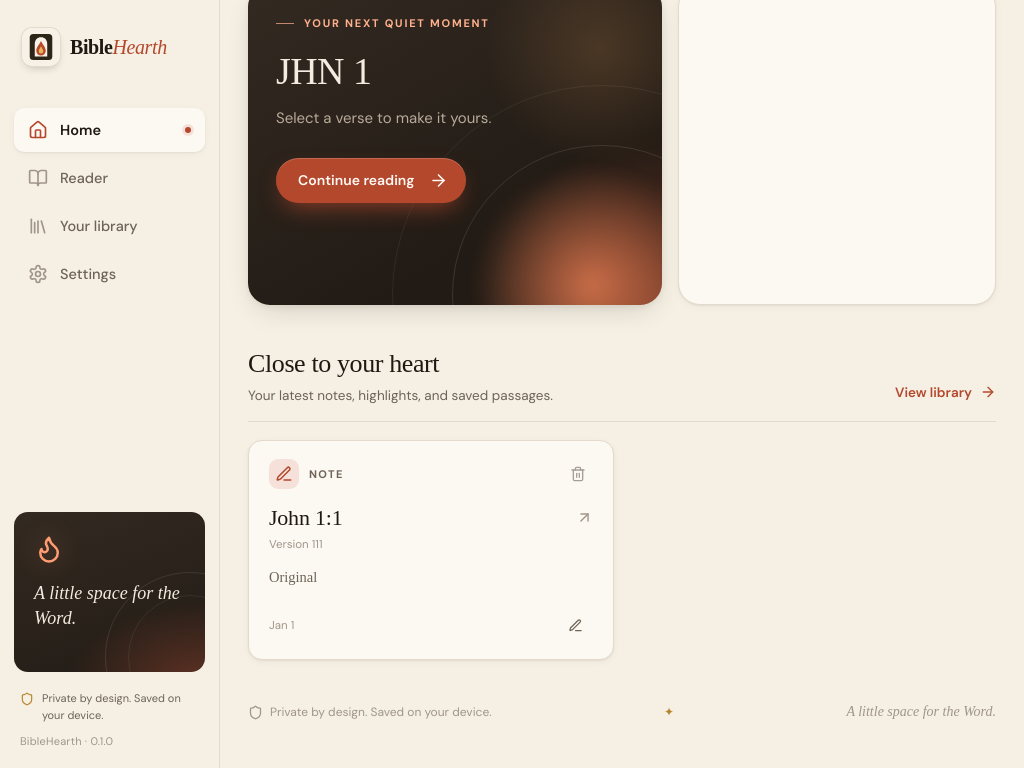
Scenario: note persistence › keeps unsaved note open on failure and retries the same text
The width and height of the screenshot is (1024, 768).
(page scrolled)
Click the button "Original".
click(293, 577)  # box [269, 566, 593, 589]
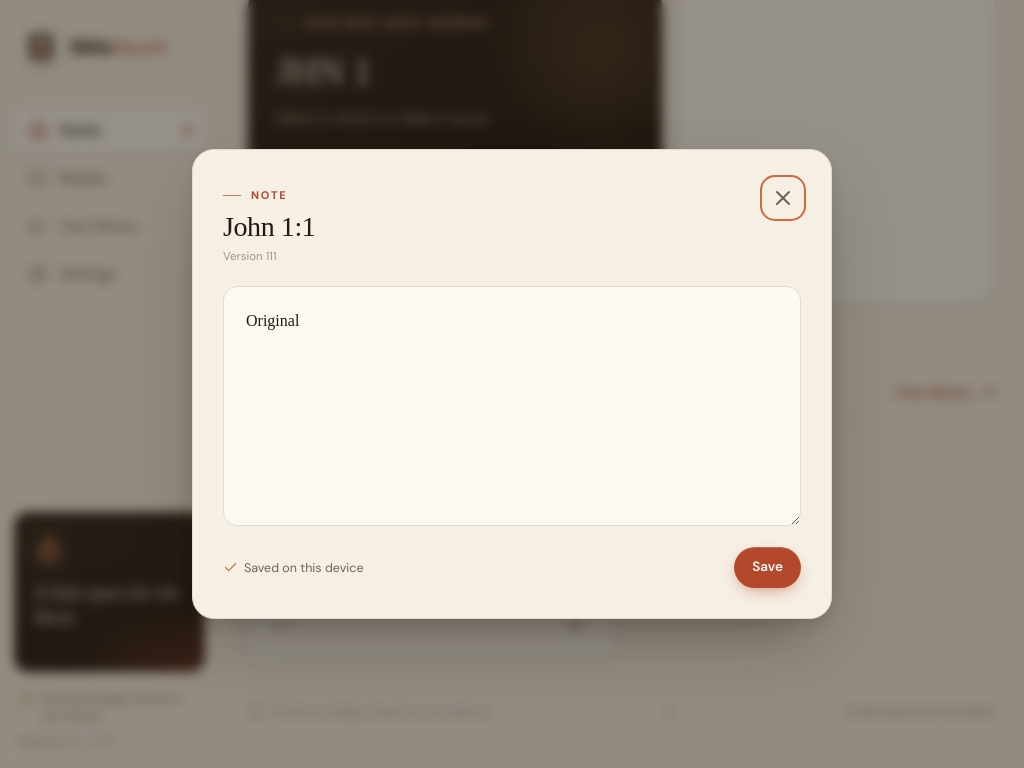
Replace the text in the text box with "Do not lose" at [512, 406], box [223, 286, 801, 526]
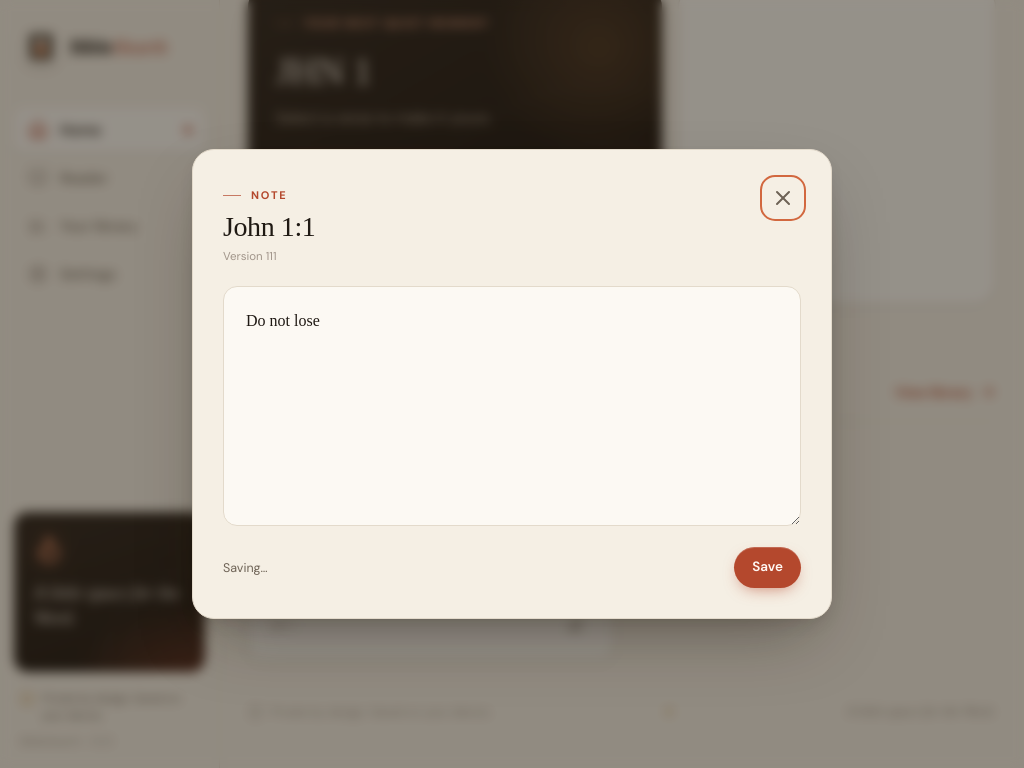
Click the button named "Close".
click(783, 198)  # box [765, 180, 801, 216]
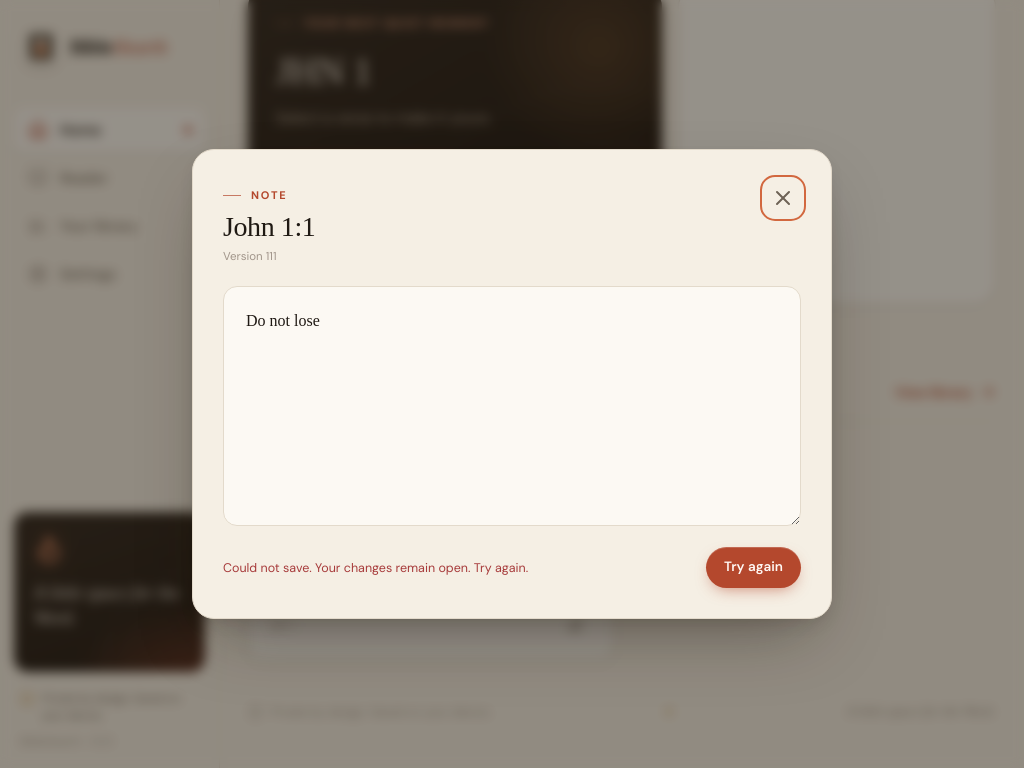
Click the button "Try again".
click(754, 568)  # box [706, 547, 801, 588]
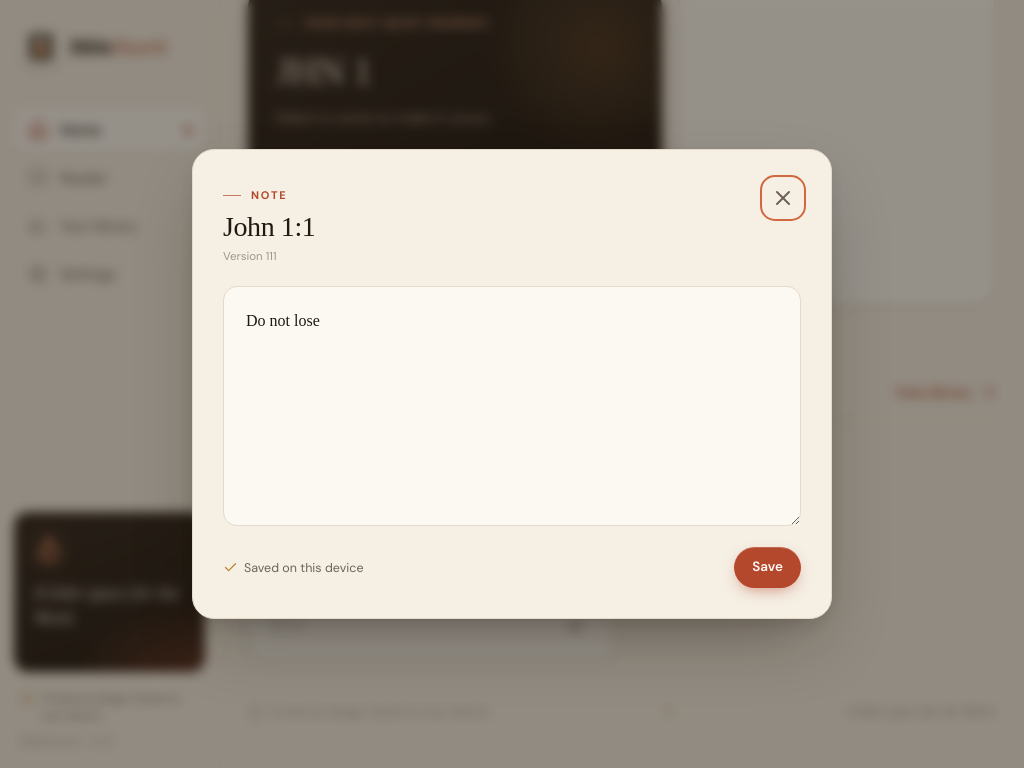
Result: the button named "Original" reads "Do not lose" at [269, 566, 593, 589]
